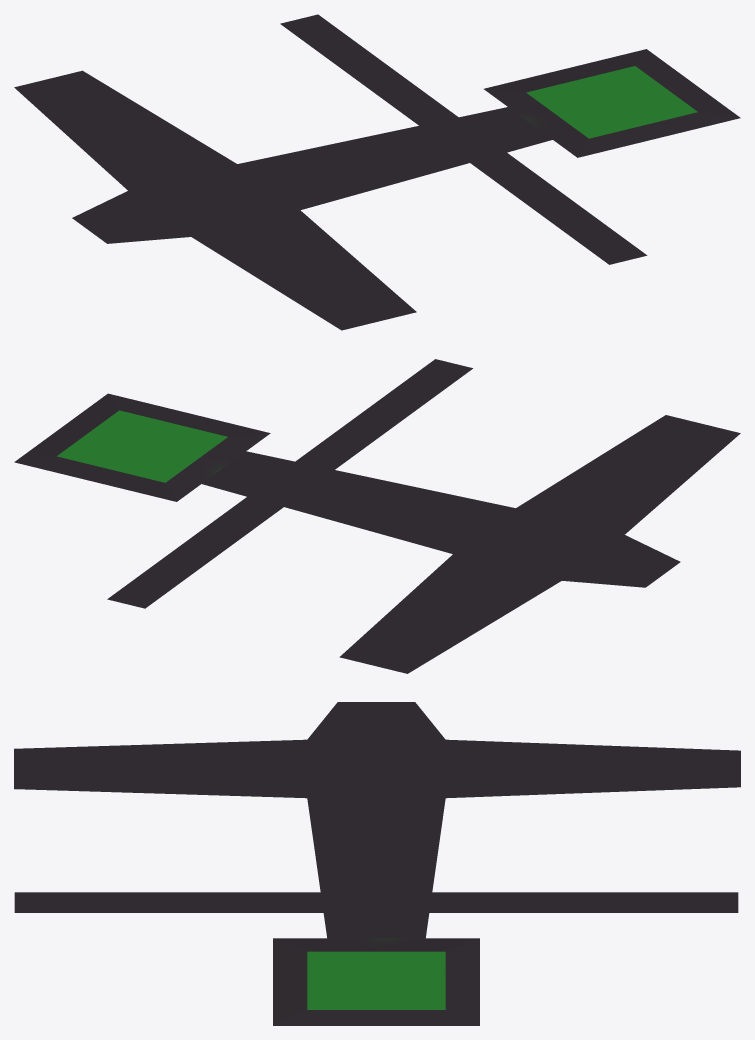
Rendered from JlnKrapyak.fbx.
The picture shows the model from 3 angles, top to bottom: view 1: azimuth 30°, elevation 25°; view 2: azimuth 150°, elevation 25°; view 3: azimuth 270°, elevation 25°; orthographic projection. The views are drawn at different scales.
Parts seen in each view (by area): view 1: Denah Jalan.001; view 2: Denah Jalan.001; view 3: Denah Jalan.001.
Part boxes in pixels (x1,y1,x2,y2): Denah Jalan.001: (14, 14, 740, 330); Denah Jalan.001: (14, 359, 740, 673); Denah Jalan.001: (14, 702, 740, 1025).
Bounding box in the file's own units: 7402 × 13.5 × 7024.
Materials: 1 (1 with a texture image).
